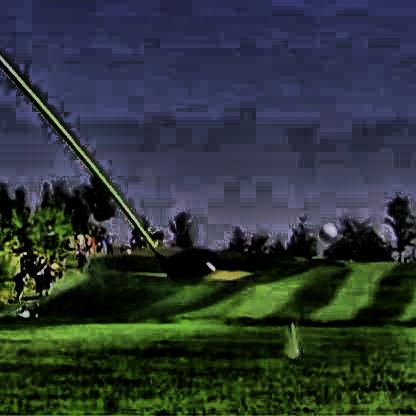golfball: (315, 220, 335, 239)
